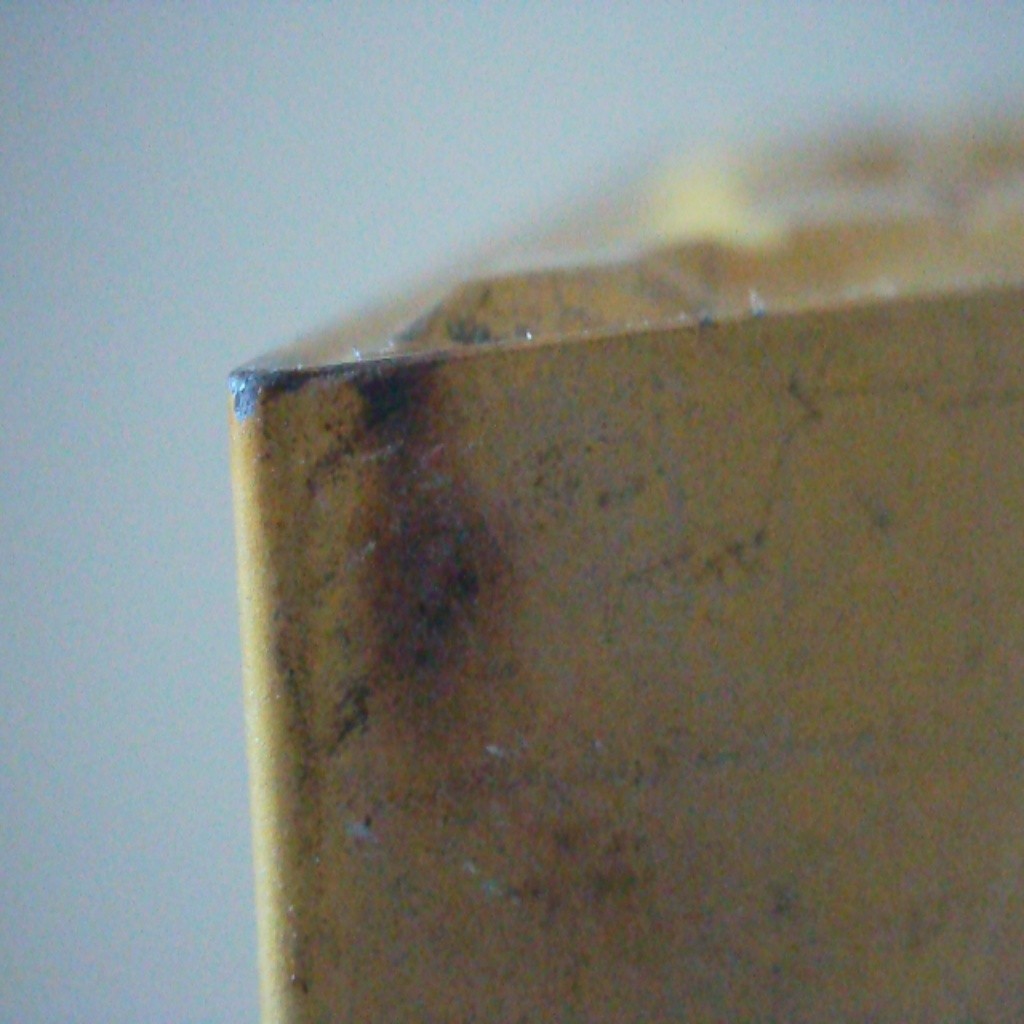flank_wear: (227, 361, 315, 423)
